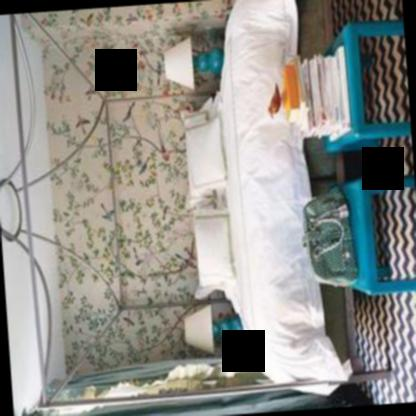handbag: (300, 182, 360, 293)
